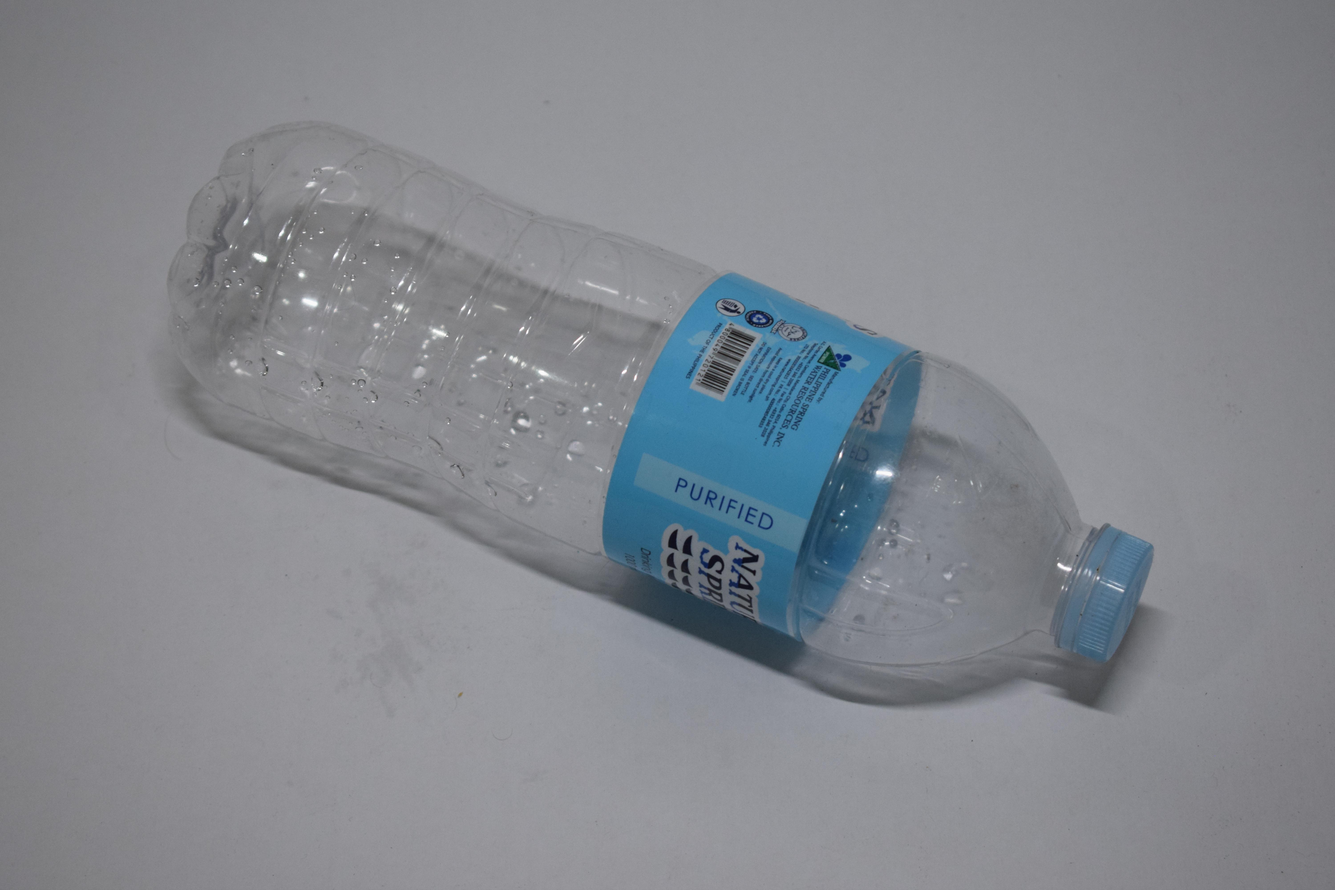plastic: (167, 124, 1151, 663)
